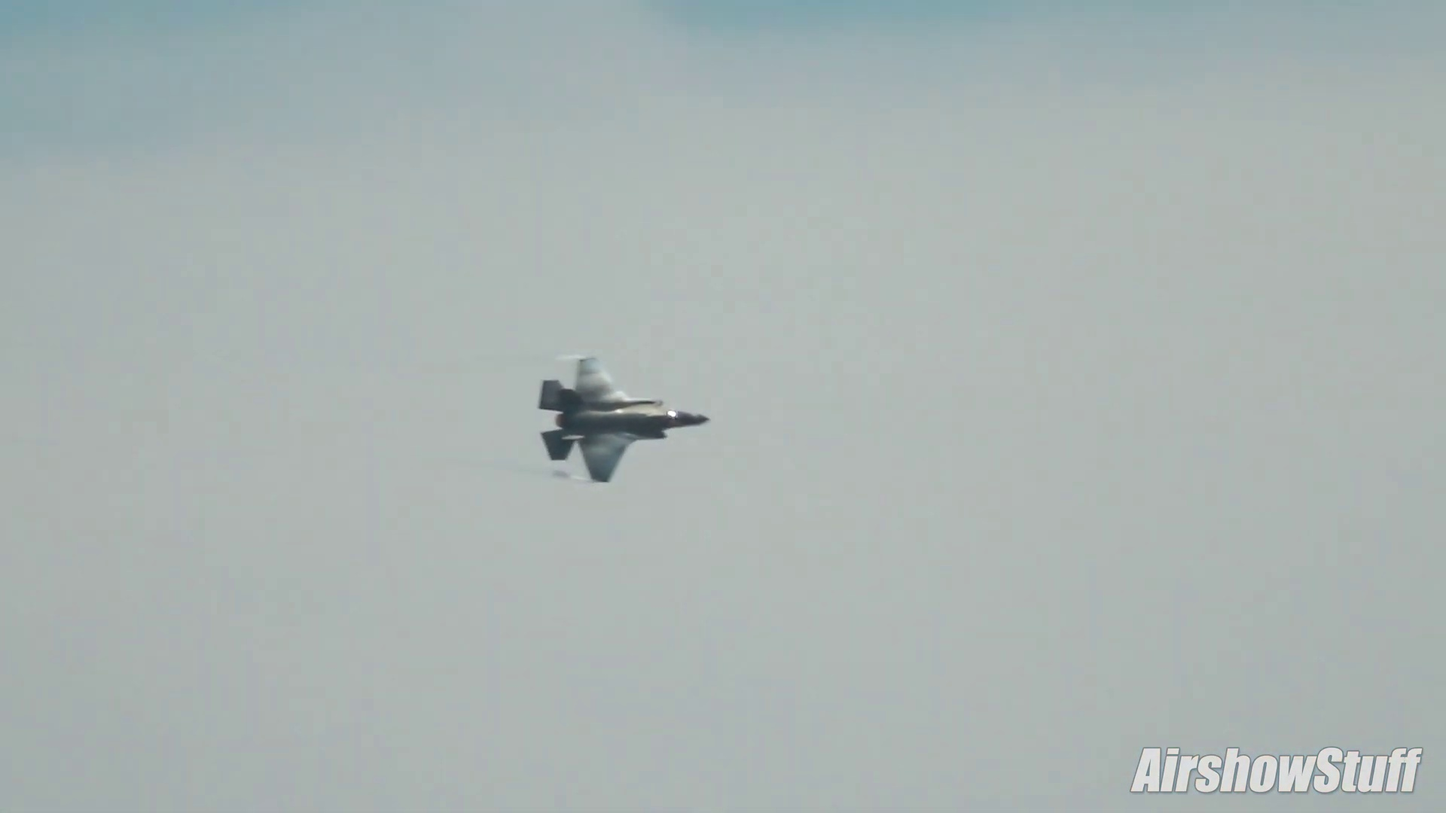F35: (524, 346, 717, 494)
